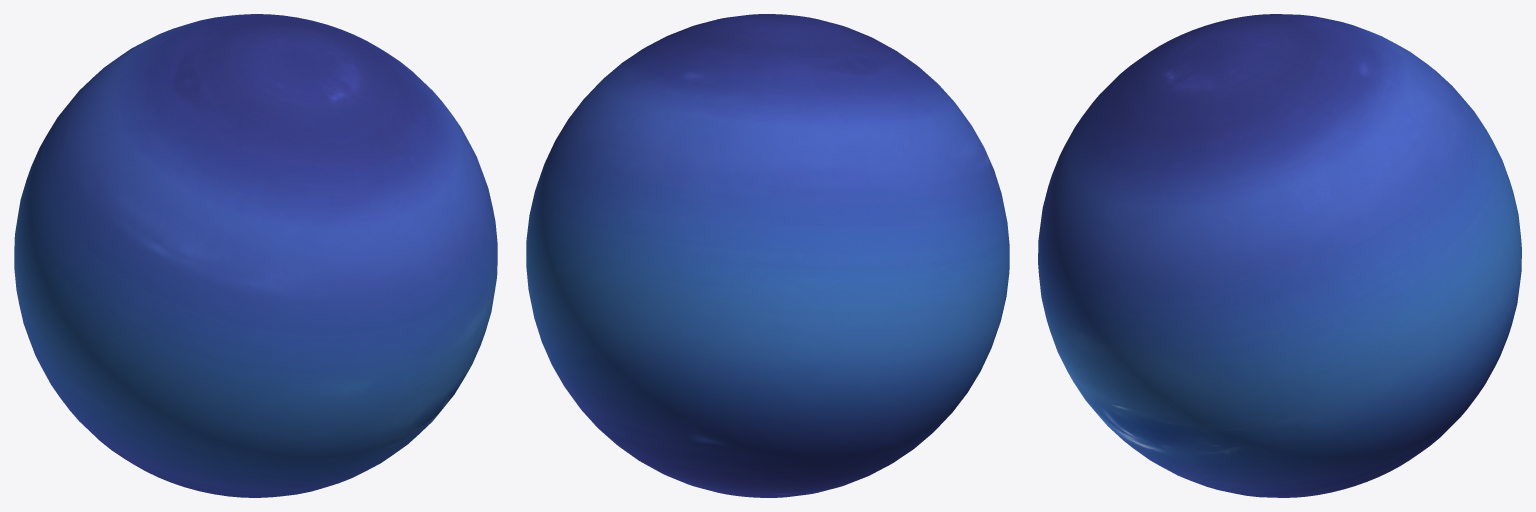
File: Neptune.glb
3 views of the same model, side by side, from view 1: azimuth 30°, elevation 25°; view 2: azimuth 150°, elevation 25°; view 3: azimuth 270°, elevation 25° (orthographic).
Parts seen in each view (by area): view 1: neptune; view 2: neptune; view 3: neptune.
Part boxes in pixels (x1,y1,x2,y2): neptune: [14, 14, 497, 497]; neptune: [526, 14, 1009, 497]; neptune: [1038, 14, 1521, 497].
Size of the model in its own units: 2.21 by 2.21 by 2.22.
1 material, 1 textured.
